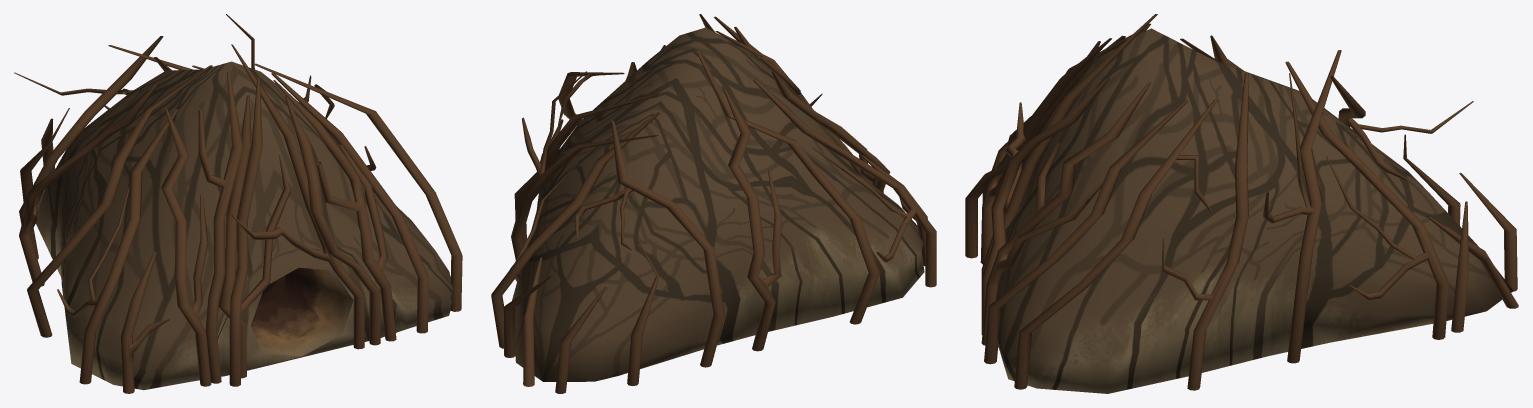
Rendered from Beaver_House.fbx.
The picture shows the model from 3 angles, left to right: view 1: azimuth 30°, elevation 25°; view 2: azimuth 150°, elevation 25°; view 3: azimuth 270°, elevation 25°; orthographic projection. The views are drawn at different scales.
Visible parts, largest first — view 1: Beaver House, Branches; view 2: Beaver House, Branches; view 3: Beaver House, Branches.
Boxes of the visible parts, x1,y1,x2,y2 form: Beaver House: (36, 61, 453, 390); Branches: (14, 14, 462, 393); Beaver House: (512, 27, 924, 381); Branches: (491, 14, 936, 393); Beaver House: (996, 28, 1513, 393); Branches: (965, 14, 1518, 390).
Bounding box in the file's own units: 1174 × 781 × 1373.
Materials: 1 (1 with a texture image).
